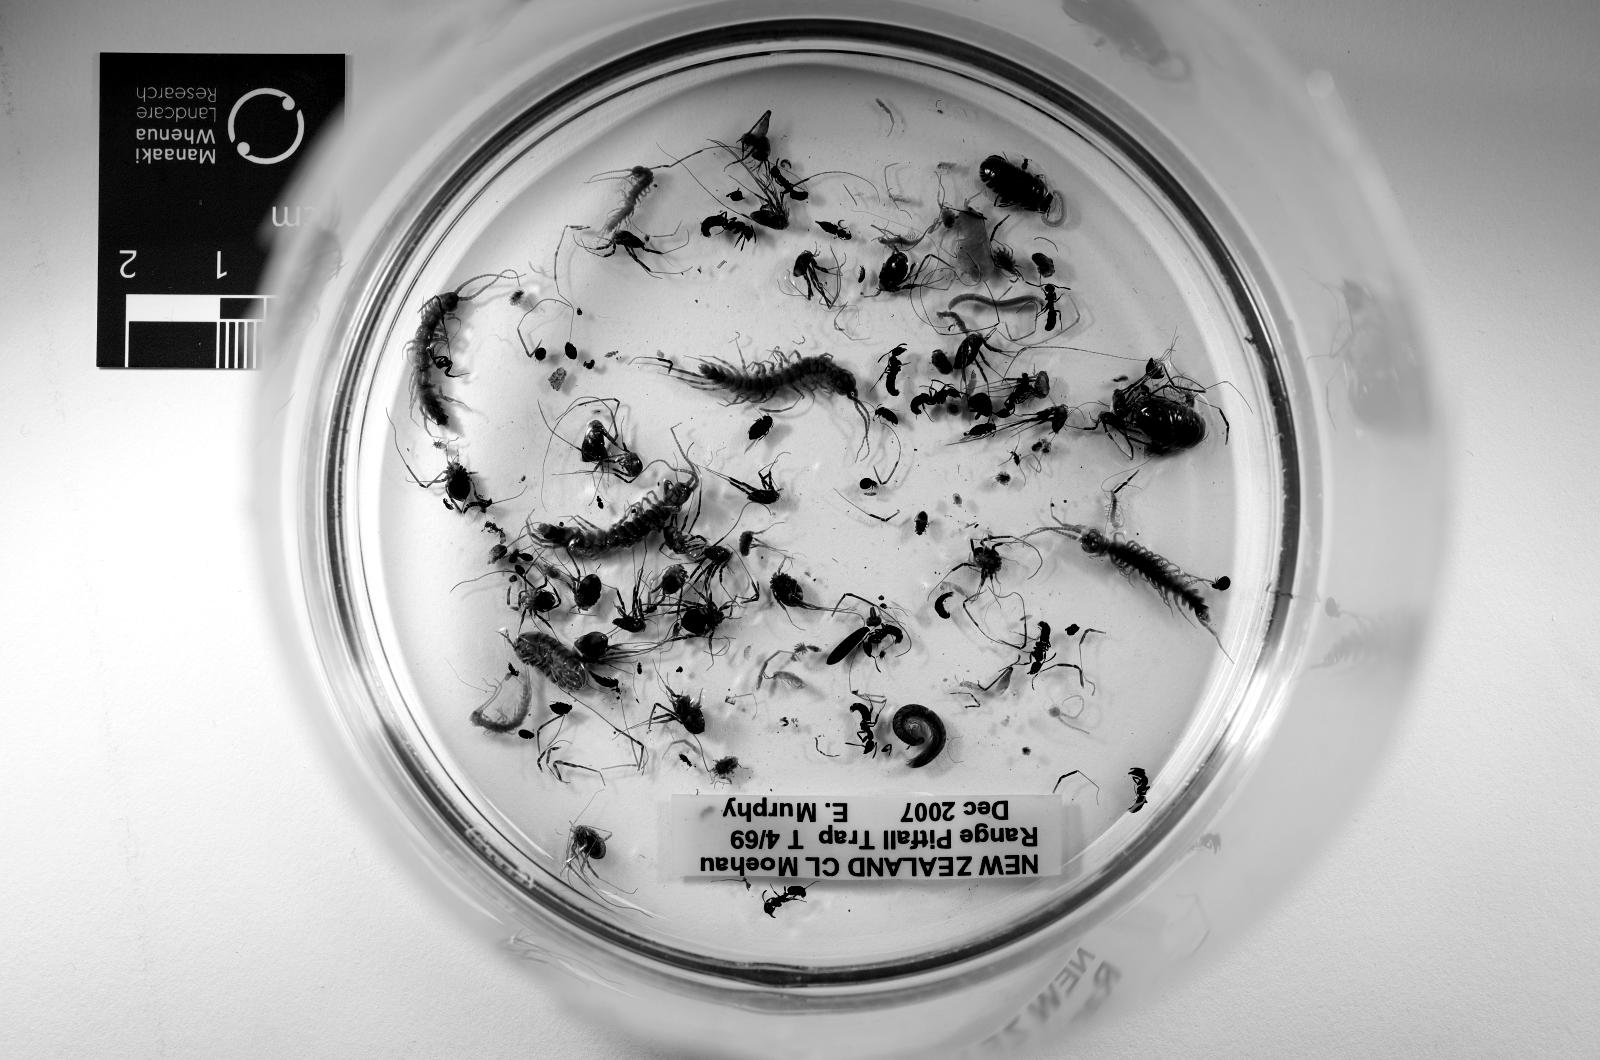acari: (1212, 575, 1231, 593), (860, 478, 879, 493), (879, 649, 887, 658)
chilopoda: (1041, 518, 1222, 649), (656, 351, 869, 438), (407, 270, 516, 428), (529, 459, 700, 558), (600, 164, 653, 239), (472, 671, 531, 733), (1109, 491, 1125, 531)
coleoptera: (747, 416, 772, 441), (969, 392, 993, 416), (818, 220, 850, 239), (462, 493, 494, 512), (590, 674, 618, 692), (966, 422, 997, 438), (934, 593, 953, 618), (875, 407, 896, 426), (550, 702, 572, 717), (565, 342, 578, 360), (519, 730, 535, 739)
diplopoda: (894, 705, 947, 767), (950, 295, 1044, 310), (1041, 189, 1069, 227)
formicidae: (700, 211, 753, 248), (909, 386, 959, 416), (850, 702, 879, 755), (1028, 621, 1054, 677), (769, 164, 809, 199), (862, 625, 903, 658), (763, 885, 807, 916), (885, 344, 906, 394), (1128, 767, 1149, 814), (1041, 283, 1060, 332), (485, 522, 506, 543)
hemiptera: (915, 512, 928, 535)
isopoda: (512, 631, 588, 692), (982, 155, 1050, 211), (1134, 397, 1206, 447)
opiliones: (662, 500, 734, 581), (672, 593, 734, 649), (409, 459, 475, 512), (594, 230, 662, 273), (565, 823, 609, 888), (747, 164, 791, 230), (959, 535, 1010, 590), (575, 631, 656, 665), (506, 575, 559, 627), (650, 686, 706, 736), (793, 252, 841, 308), (879, 252, 938, 292), (1084, 409, 1134, 457), (953, 332, 1003, 379), (721, 468, 782, 506), (613, 571, 647, 634), (769, 568, 822, 608), (582, 419, 622, 472), (1010, 403, 1069, 435), (700, 543, 734, 596), (1113, 379, 1149, 428), (563, 565, 603, 608), (603, 451, 643, 481), (656, 562, 687, 600), (738, 531, 769, 556), (713, 757, 738, 780)
orthoptera: (738, 111, 772, 161)
